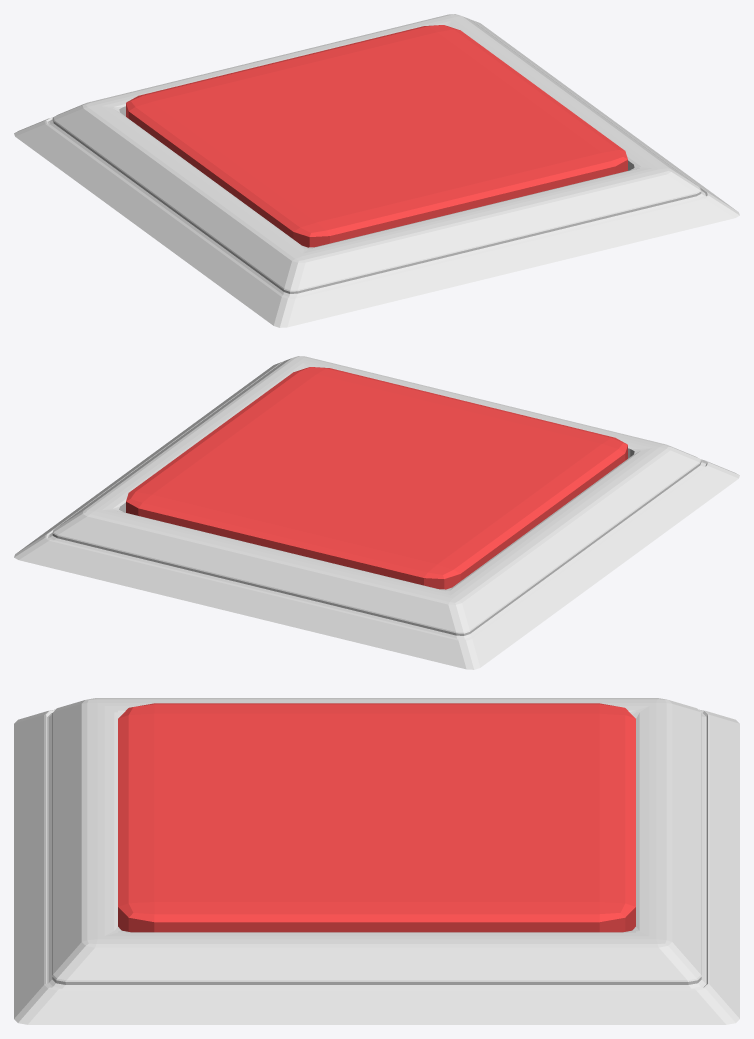
Rendered from Game_project1_assets_pressureButton.fbx.
3 renders of one model, top to bottom at view 1: azimuth 30°, elevation 25°; view 2: azimuth 150°, elevation 25°; view 3: azimuth 270°, elevation 25°, orthographic. The views are drawn at different scales.
Visible parts, largest first — view 1: pressure button, pressure plate; view 2: pressure button, pressure plate; view 3: pressure button, pressure plate.
Part boxes in pixels (x1,y1,x2,y2): pressure button: (126,25,627,247); pressure plate: (14,14,739,327); pressure button: (126,367,627,589); pressure plate: (14,356,739,669); pressure button: (118,703,635,932); pressure plate: (14,698,739,1024).
Bounding box in the file's own units: 261 × 25.29 × 261.
